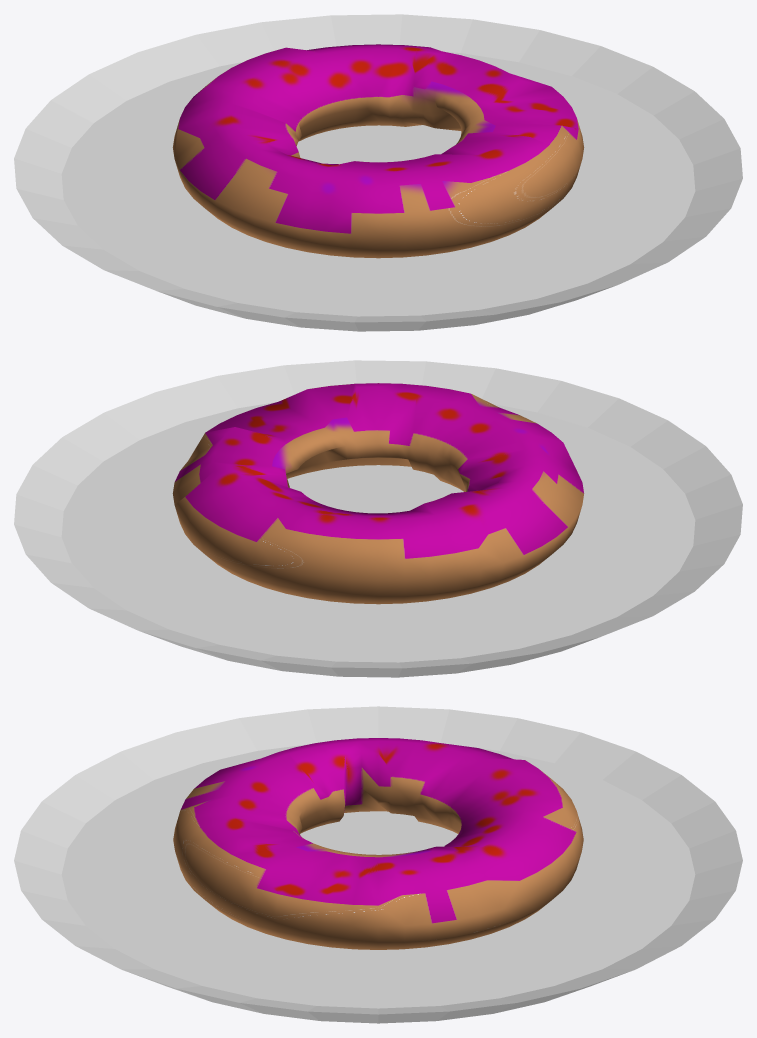
File: doughnut.glb
The picture shows the model from 3 angles, top to bottom: view 1: azimuth 30°, elevation 25°; view 2: azimuth 150°, elevation 25°; view 3: azimuth 270°, elevation 25°; orthographic projection.
Parts seen in each view (by area): view 1: Cylinder; view 2: Cylinder; view 3: Cylinder.
Boxes of the visible parts, box(x1,y1,x2,y2) form: Cylinder: box(14, 14, 742, 331); Cylinder: box(14, 360, 742, 677); Cylinder: box(14, 706, 742, 1023).
Bounding box in the file's own units: 6.4 × 0.9137 × 6.4.
2 materials, 1 textured.
